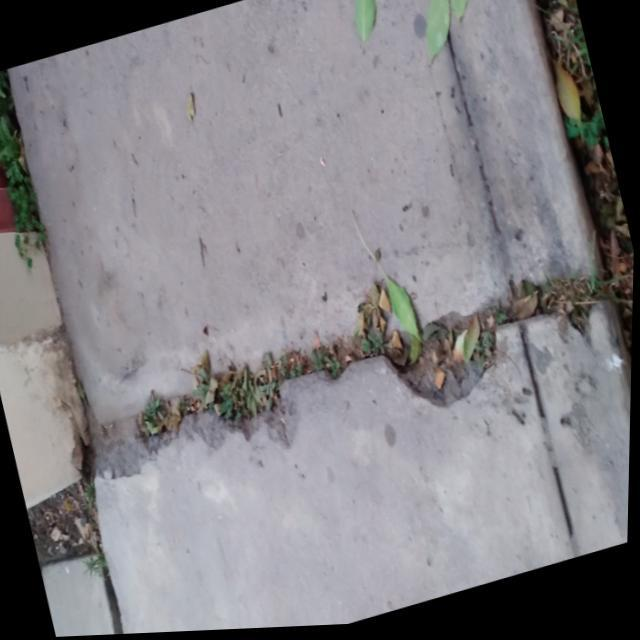hole: (306, 264, 584, 434)
